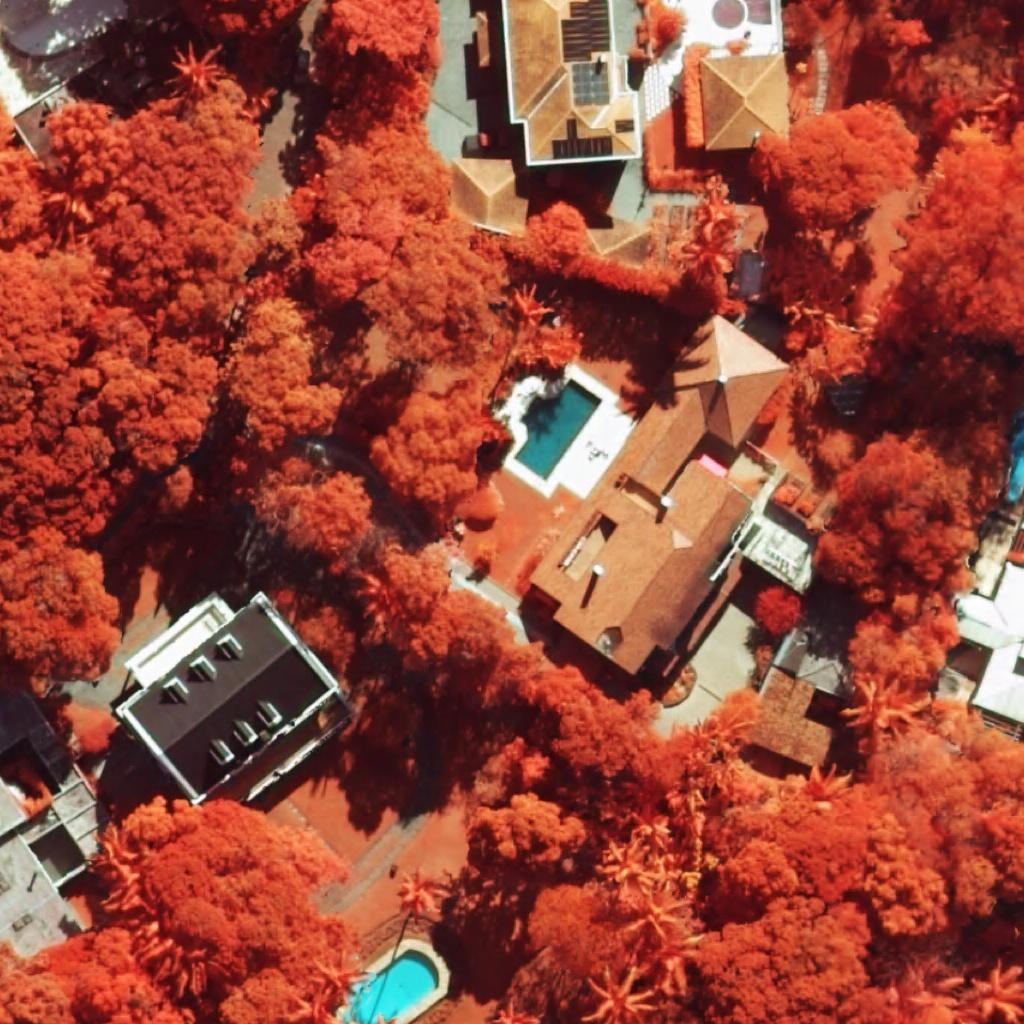pool: (514, 378, 603, 481), (351, 949, 439, 1024), (1008, 416, 1024, 502)
